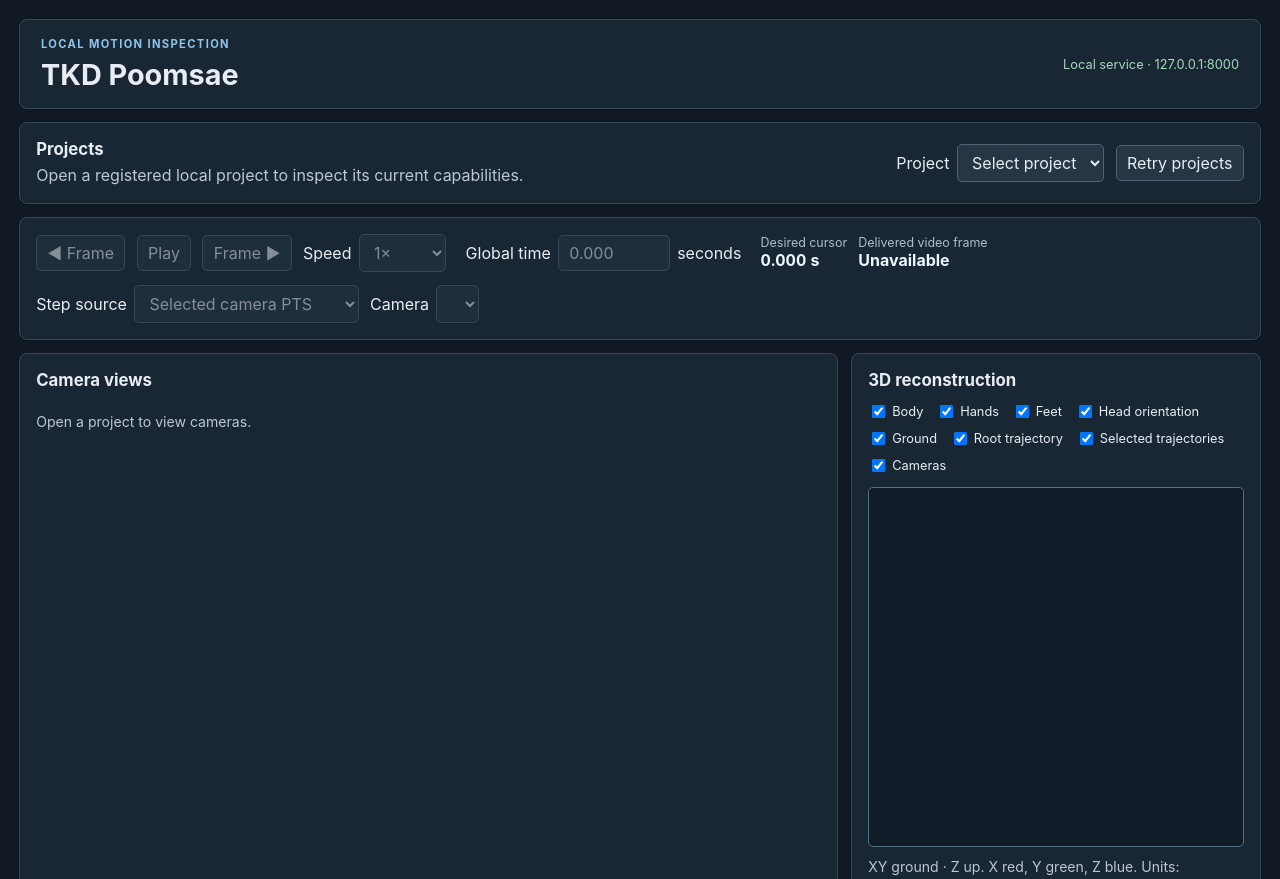
Test: rendered local inspection shell › reports project failure and retries its metadata request
Select "synthetic" in the dropdown labelled "Project" at (1031, 163), box [957,144,1104,182]
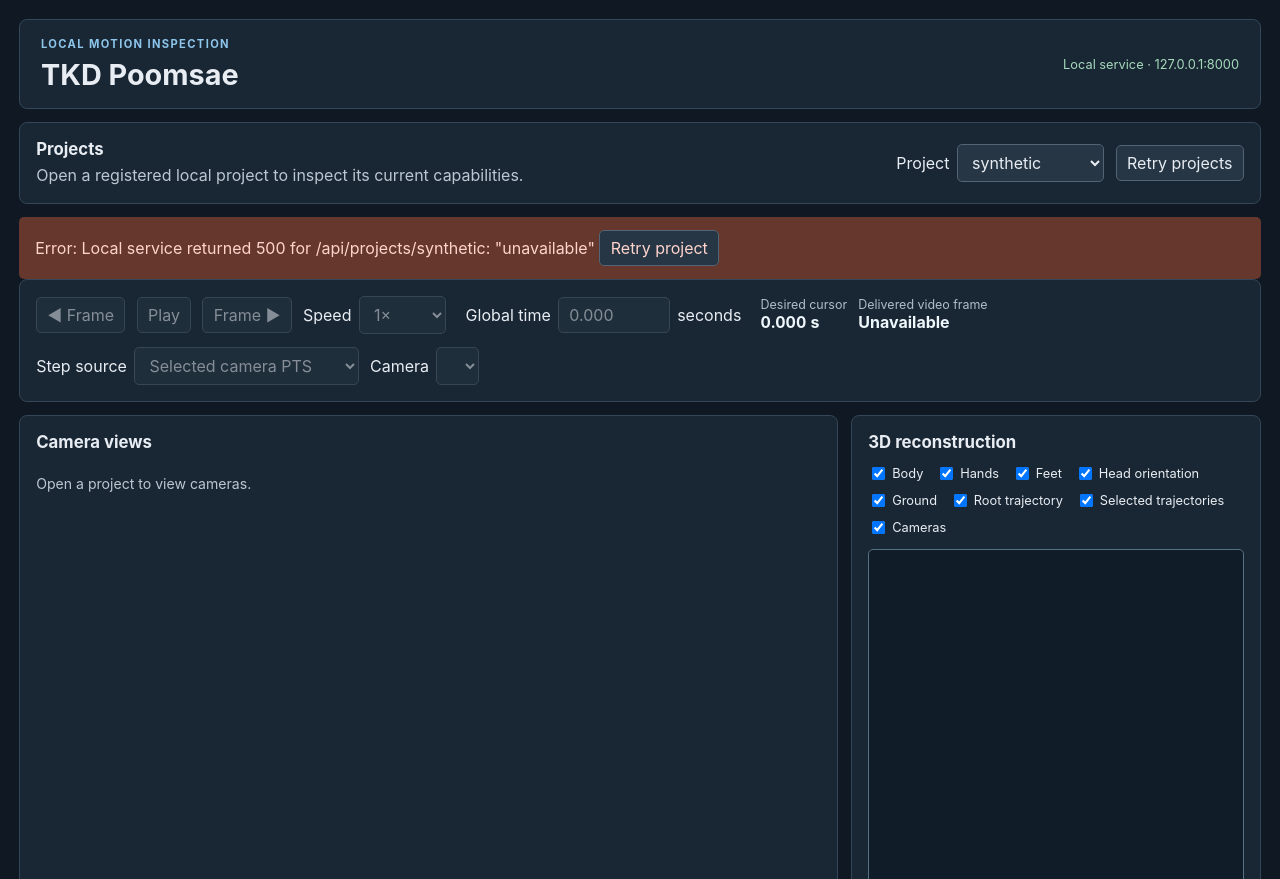
Expected: the message shows "500", [35,238,595,258]
Click the button "Retry project" at (659, 248), box [599,230,719,266]
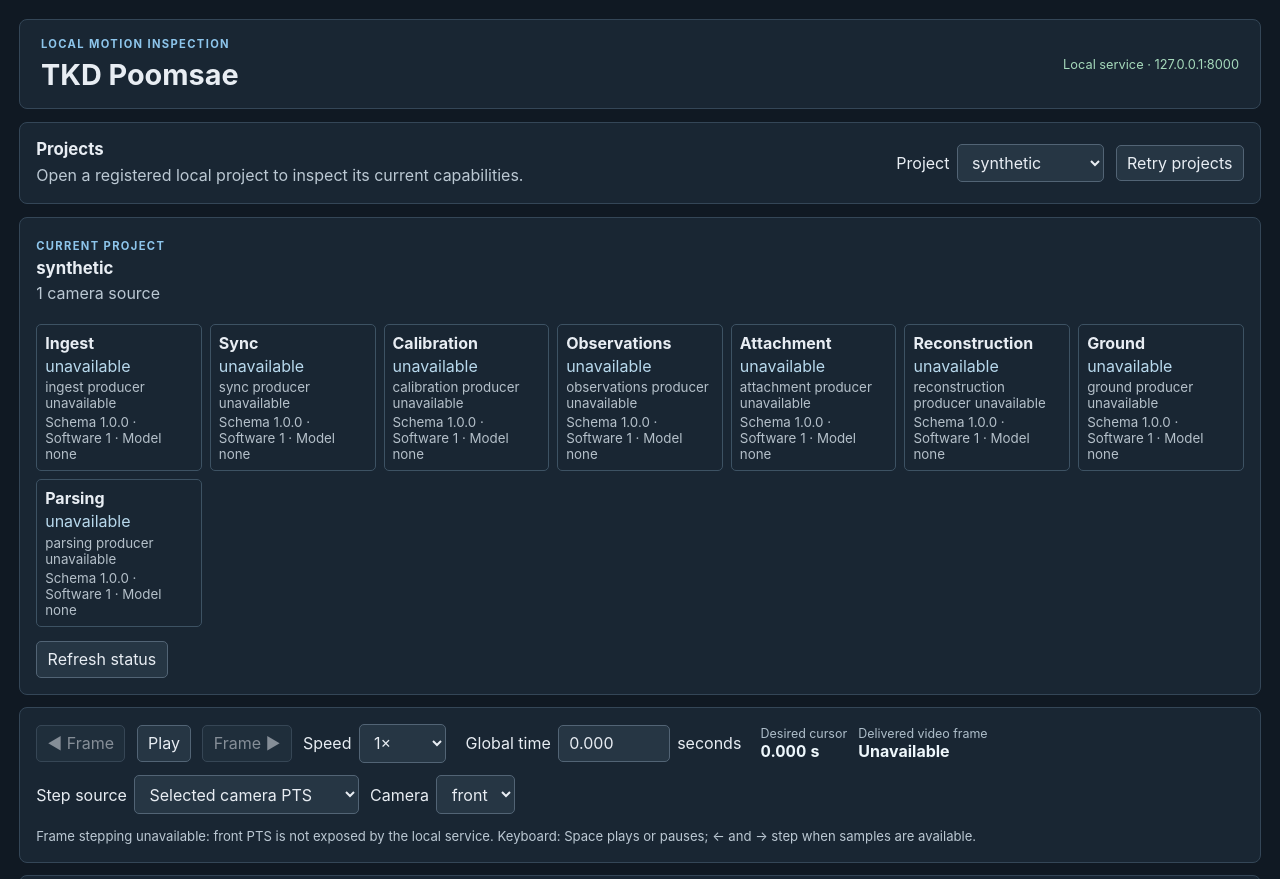
Expected: the text "1 camera source" is shown, [36,283,160,303]
